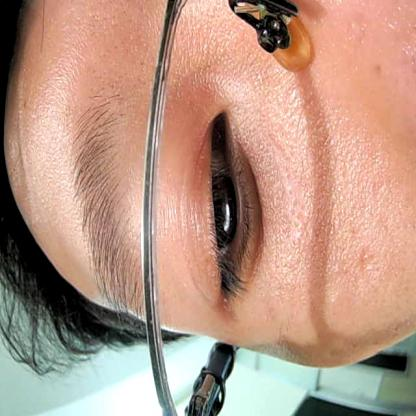Close: (174, 80, 272, 326)
